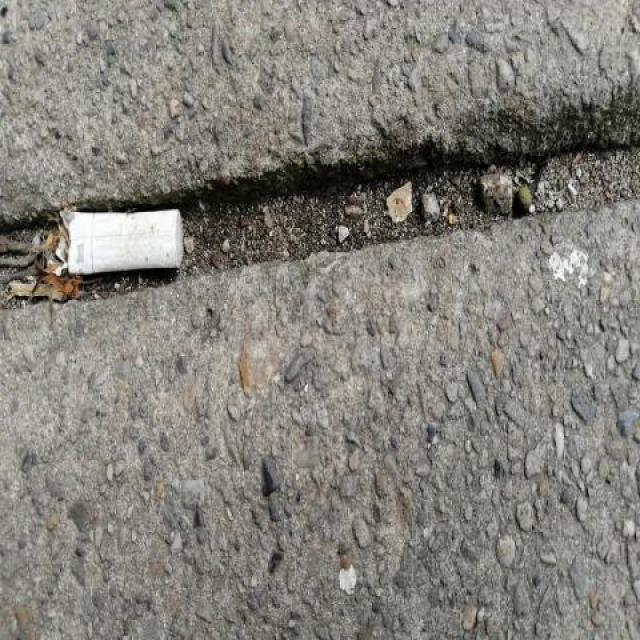non-organic waste: (53, 203, 188, 280)
